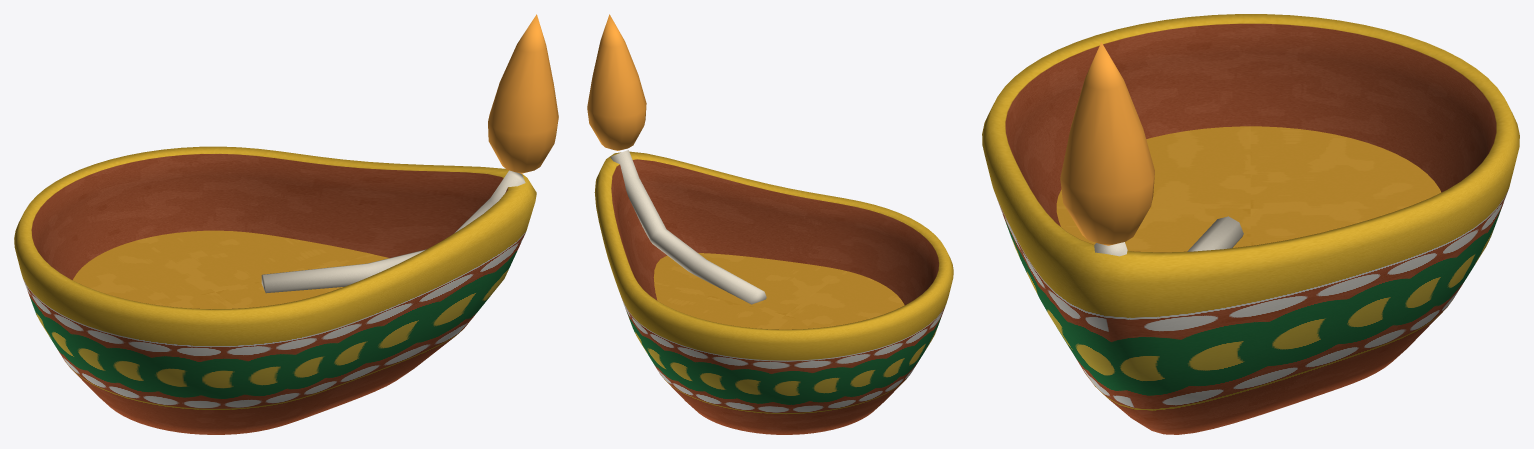
Rendered from Diya.fbx.
The picture shows the model from 3 angles, left to right: view 1: azimuth 30°, elevation 25°; view 2: azimuth 150°, elevation 25°; view 3: azimuth 270°, elevation 25°; orthographic projection. The views are drawn at different scales.
Parts seen in each view (by area): view 1: Clay diya, Oil, Flame, Cotton wick; view 2: Clay diya, Oil, Flame, Cotton wick; view 3: Clay diya, Oil, Flame, Cotton wick.
Part boxes in pixels (x1=…): Clay diya: x1=14, y1=146, x2=536, y2=434; Oil: x1=73, y1=230, x2=389, y2=309; Flame: x1=488, y1=14, x2=558, y2=173; Cotton wick: x1=261, y1=170, x2=525, y2=293; Clay diya: x1=594, y1=151, x2=953, y2=434; Oil: x1=653, y1=253, x2=904, y2=329; Flame: x1=587, y1=14, x2=646, y2=150; Cotton wick: x1=610, y1=150, x2=766, y2=304; Clay diya: x1=982, y1=14, x2=1519, y2=434; Oil: x1=1056, y1=126, x2=1441, y2=252; Flame: x1=1060, y1=42, x2=1154, y2=245; Cotton wick: x1=1094, y1=216, x2=1243, y2=256.
Size of the model in its own units: 10.31 by 7.45 by 7.81.
5 materials, 5 textured.
